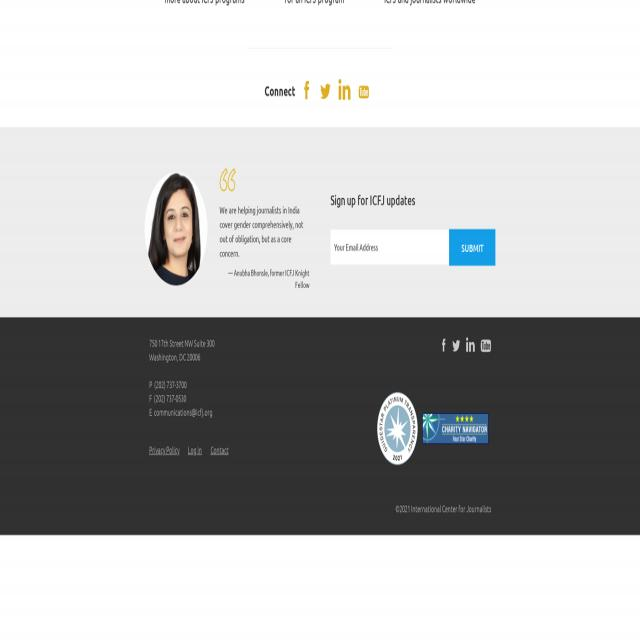button: (144, 174, 208, 287), (378, 393, 418, 468), (422, 415, 488, 445), (450, 228, 496, 266), (355, 81, 373, 103), (220, 169, 236, 193), (338, 80, 351, 102), (319, 81, 332, 103), (300, 80, 312, 102), (439, 338, 448, 354), (466, 338, 475, 354), (452, 339, 461, 355), (480, 341, 491, 354)
field: (331, 230, 449, 266)
